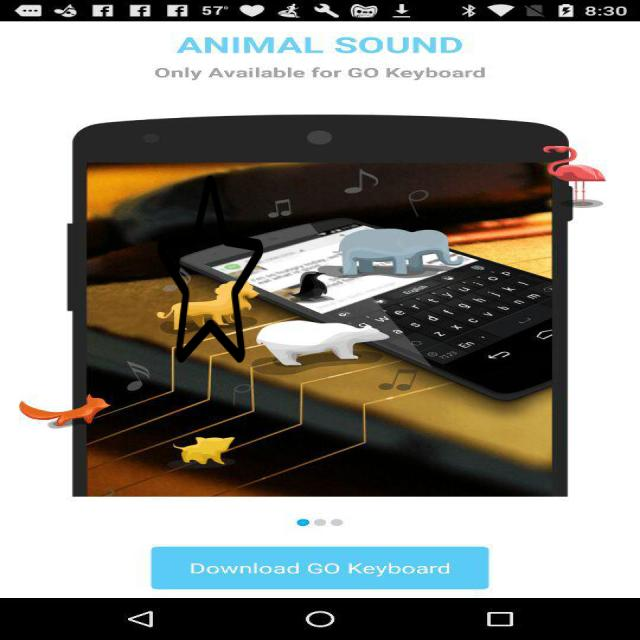forced continuity: (158, 171, 263, 367)
